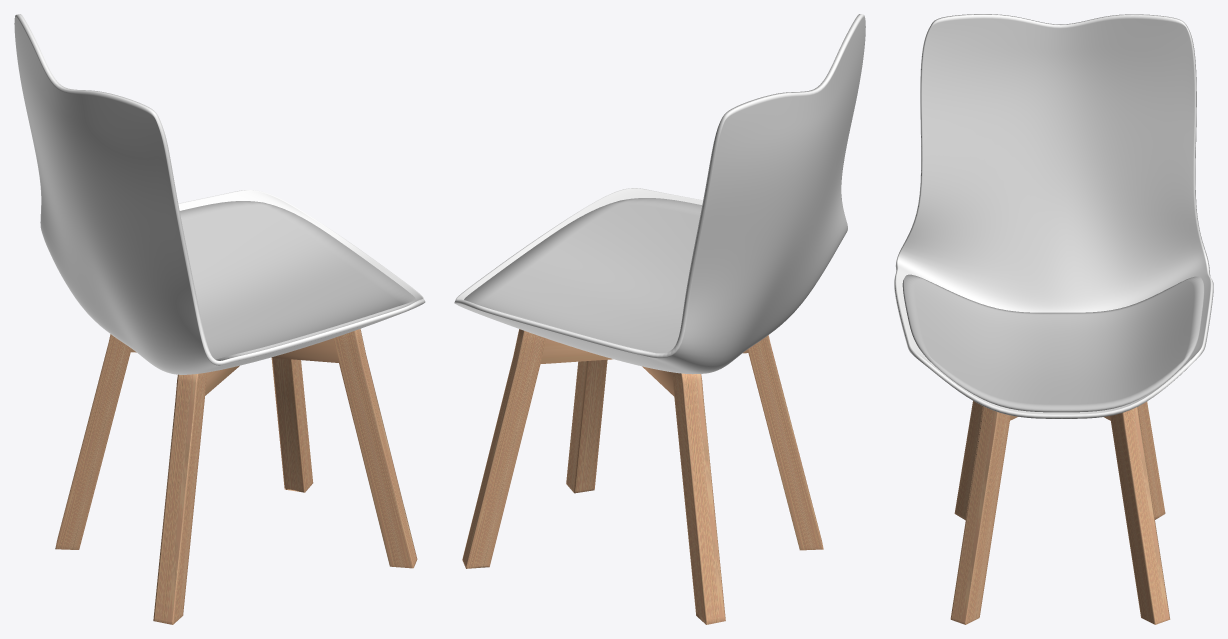
File: chair2_ver2.glb
3 views of the same model, side by side, from view 1: azimuth 30°, elevation 25°; view 2: azimuth 150°, elevation 25°; view 3: azimuth 270°, elevation 25° (orthographic). The views are drawn at different scales.
Parts seen in each view (by area): view 1: Plane.001, Cube.006, Cube.004, Cube.007, Cube.005; view 2: Plane.001, Cube.005, Cube.007, Cube.006, Cube.004; view 3: Plane.001, Cube.004, Cube.005, Cube.006, Cube.007.
Boxes of the visible parts, x1,y1,x2,y2 form: Plane.001: (14, 14, 425, 374); Cube.006: (153, 365, 239, 624); Cube.004: (271, 329, 417, 568); Cube.007: (55, 334, 136, 549); Cube.005: (271, 358, 313, 492); Plane.001: (454, 14, 865, 374); Cube.005: (462, 329, 612, 568); Cube.007: (642, 366, 725, 624); Cube.006: (743, 335, 823, 550); Cube.004: (566, 359, 607, 493); Plane.001: (894, 14, 1213, 418); Cube.004: (950, 406, 1017, 624); Cube.005: (1104, 407, 1170, 624); Cube.006: (954, 401, 982, 520); Cube.007: (1138, 401, 1165, 519).
Bounding box in the file's own units: 0.4867 × 0.7378 × 0.4433.
3 materials, 1 textured.
